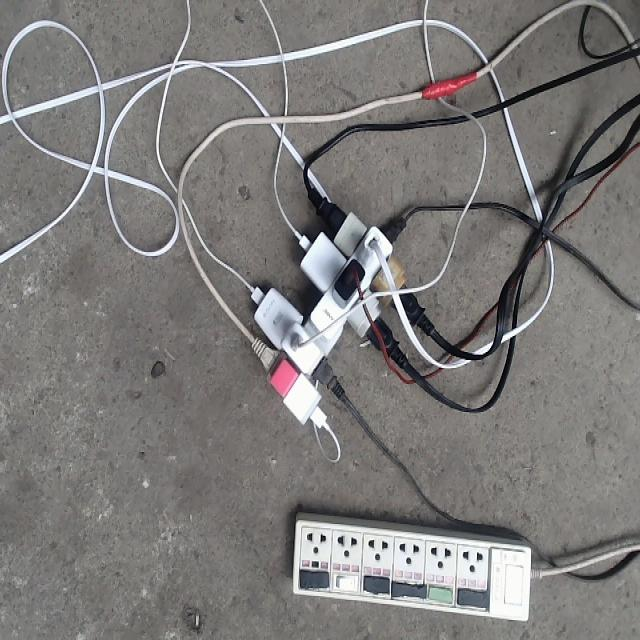-: (247, 203, 409, 429)
